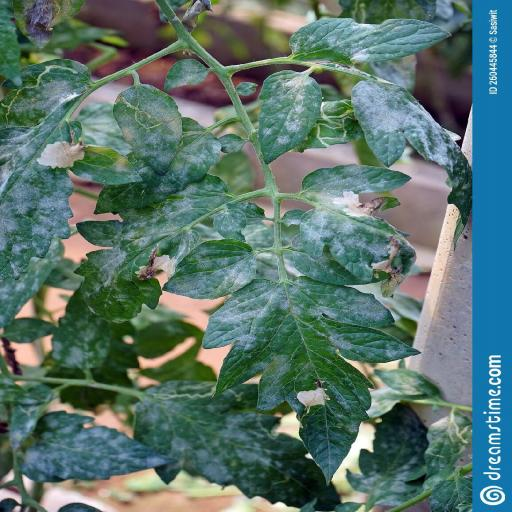Leaf_Miner: (0, 58, 90, 139), (112, 84, 182, 176), (290, 98, 366, 153), (423, 414, 472, 480), (146, 381, 246, 407)
